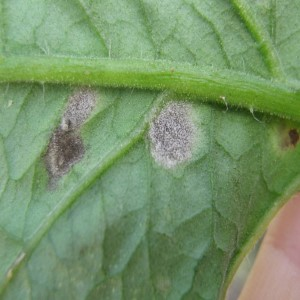cladosporium: (46, 128, 85, 189), (278, 122, 298, 149)
oidio: (149, 101, 202, 167), (60, 85, 99, 129)
